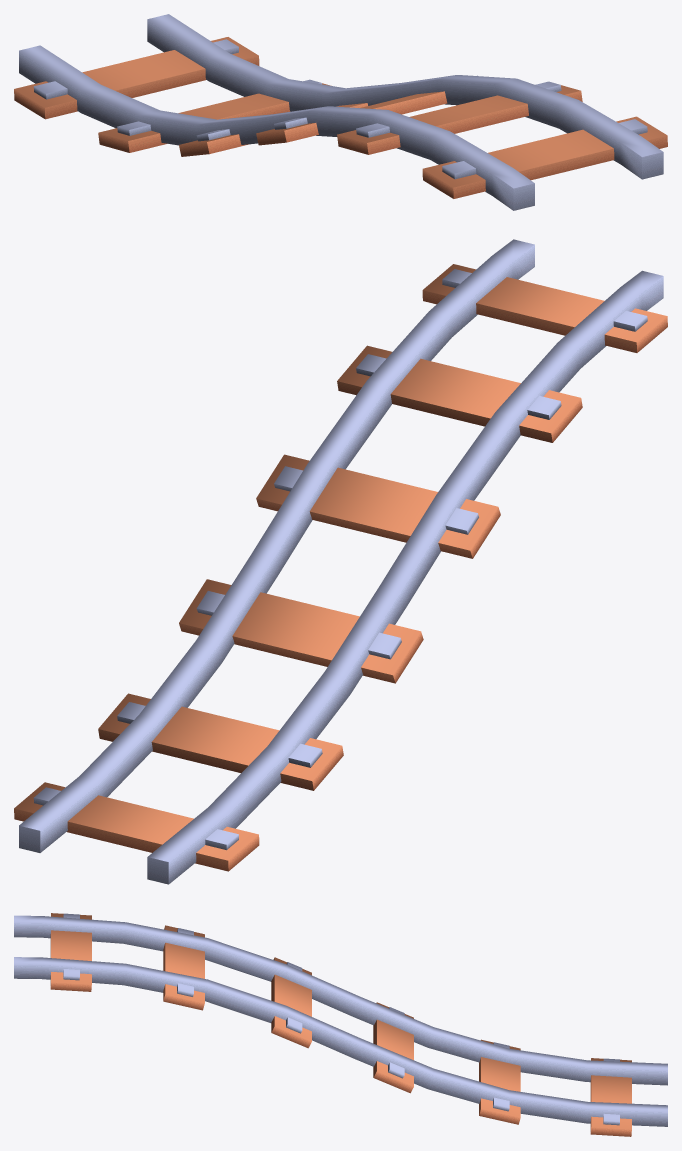
The model's file is railroad-straight-hill-complete.glb.
The picture shows the model from 3 angles, top to bottom: view 1: azimuth 30°, elevation 25°; view 2: azimuth 150°, elevation 25°; view 3: azimuth 270°, elevation 25°; orthographic projection. The views are drawn at different scales.
Visible parts, largest first — view 1: railroad-straight-hill-complete; view 2: railroad-straight-hill-complete; view 3: railroad-straight-hill-complete.
Boxes of the visible parts, left/top/right/bottom form: railroad-straight-hill-complete: left=14, top=14, right=667, bottom=210; railroad-straight-hill-complete: left=14, top=239, right=667, bottom=884; railroad-straight-hill-complete: left=14, top=913, right=667, bottom=1136.
Bounding box in the file's own units: 1 × 1.1 × 4.
1 material, 1 textured.
